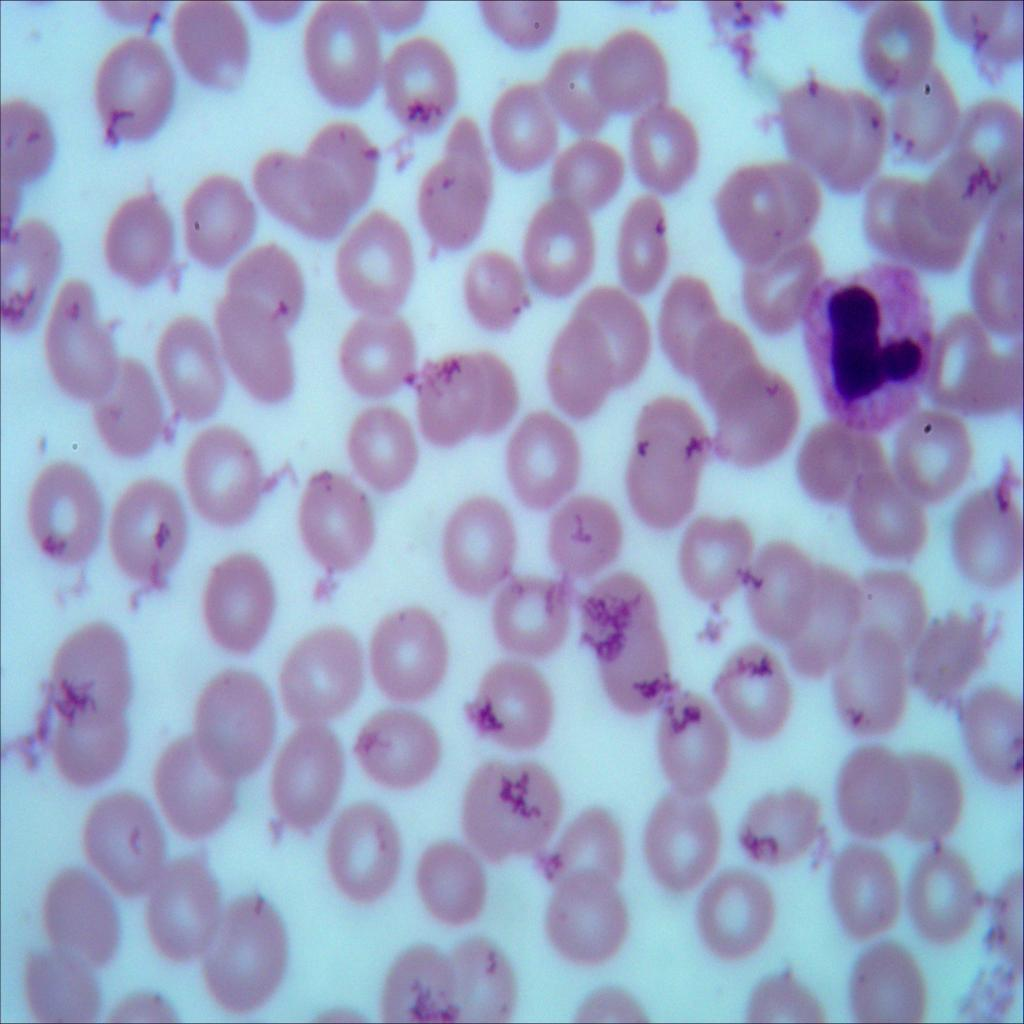Neutrofil: (791, 247, 938, 442)
